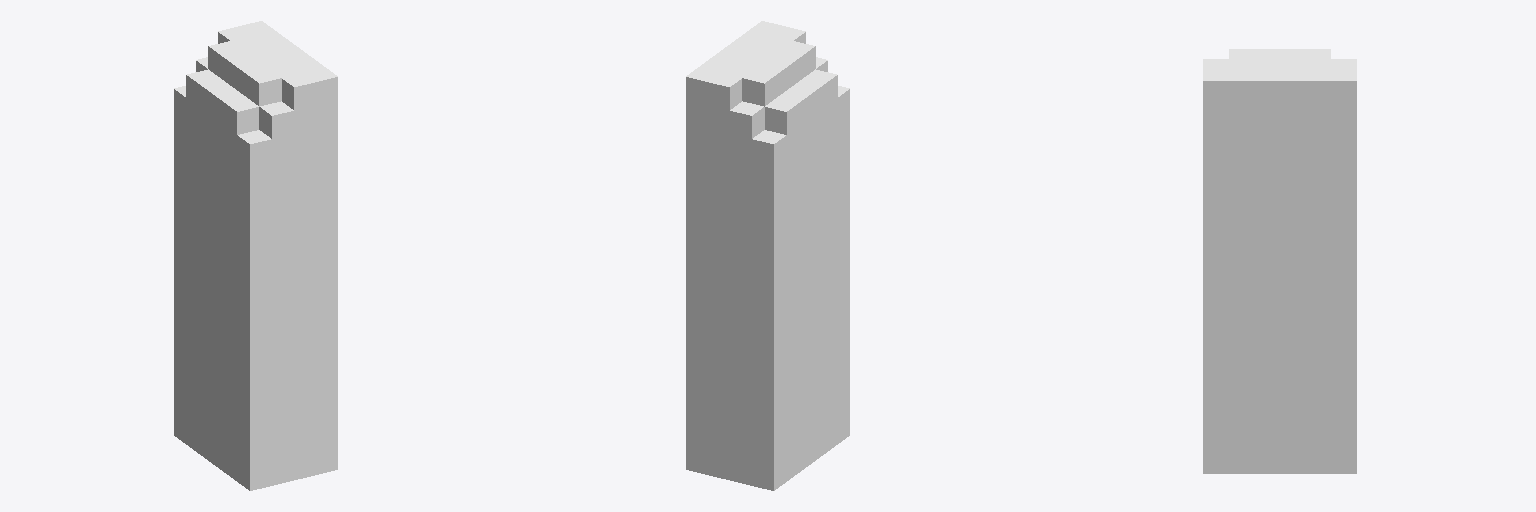
The model's file is CSHTRUN-2.obj.
3 renders of one model, left to right at view 1: azimuth 30°, elevation 25°; view 2: azimuth 150°, elevation 25°; view 3: azimuth 270°, elevation 25°, orthographic.
Visible parts, largest first — view 1: object 1; view 2: object 1; view 3: object 1.
Part boxes in pixels (left/top/right/bottom): object 1: left=174, top=21, right=337, bottom=490; object 1: left=686, top=21, right=849, bottom=490; object 1: left=1203, top=49, right=1356, bottom=473.
Size of the model in its own units: 0.4 by 1.7 by 0.6.